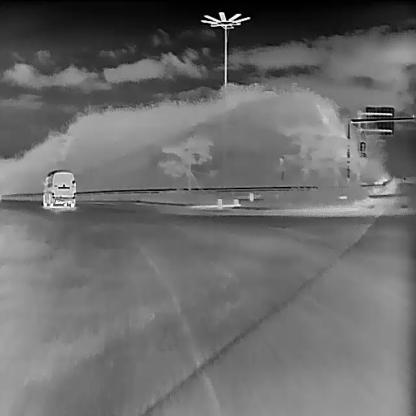car: (43, 169, 76, 210)
